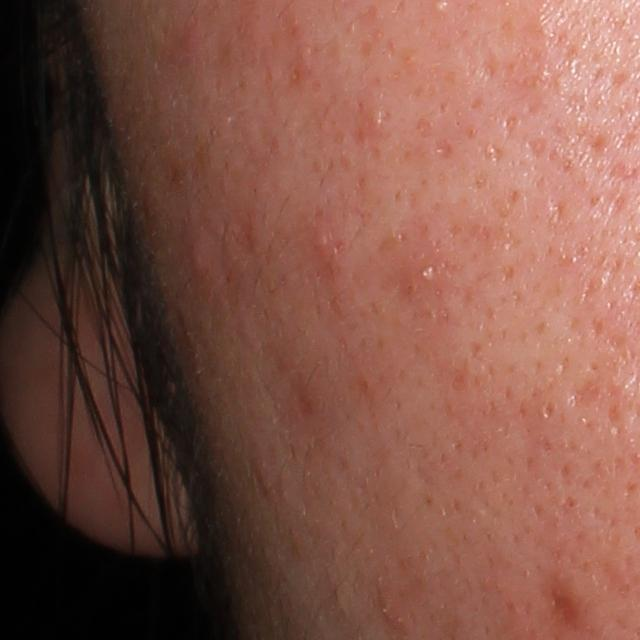atrophic_scar: (537, 577, 584, 633), (564, 377, 606, 411)
comedo: (366, 106, 389, 131)
papule: (391, 241, 452, 310), (303, 217, 352, 266), (183, 228, 217, 284)
